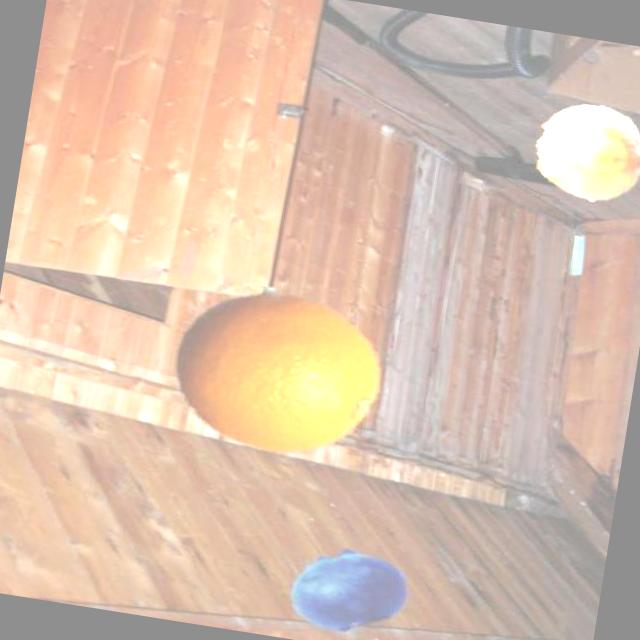Orange: (158, 272, 397, 468)
